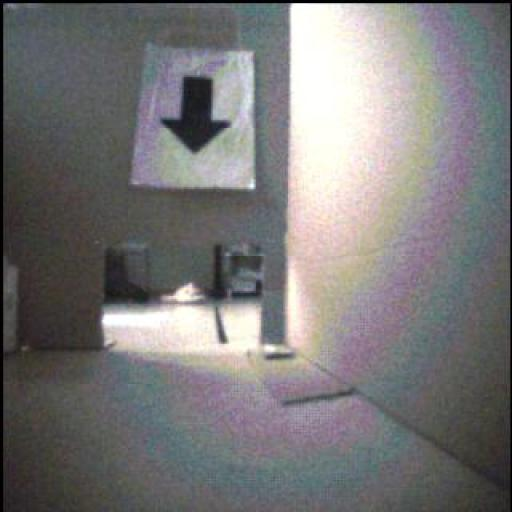arrow: (163, 78, 232, 153)
